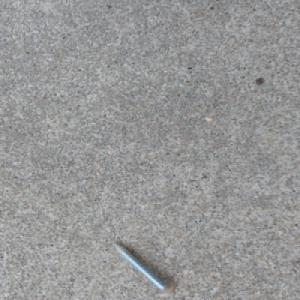Screw: (111, 240, 177, 297)
